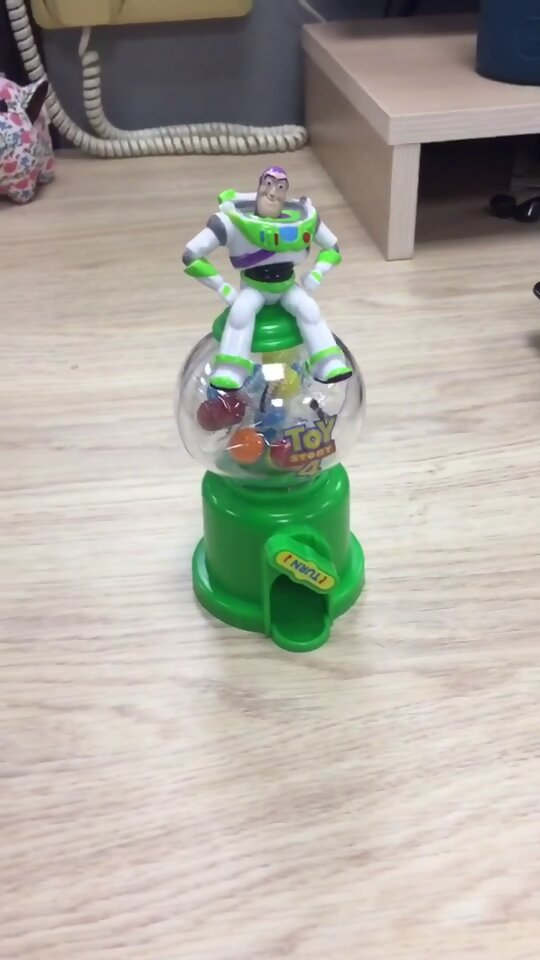buzz: (174, 162, 372, 655)
